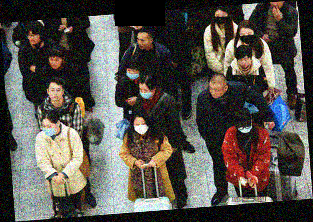with_mask: (133, 119, 150, 136), (41, 122, 57, 137), (139, 85, 154, 100), (125, 67, 141, 81), (239, 30, 255, 44), (215, 12, 229, 26), (238, 125, 254, 134)
without_mask: (48, 85, 64, 102), (49, 55, 64, 69), (136, 35, 150, 50), (209, 84, 223, 99), (28, 31, 41, 45), (238, 57, 252, 68)
